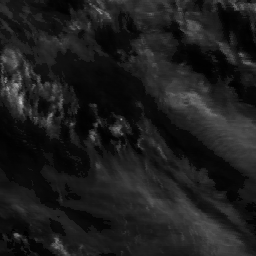Target: (119, 117, 124, 122)
